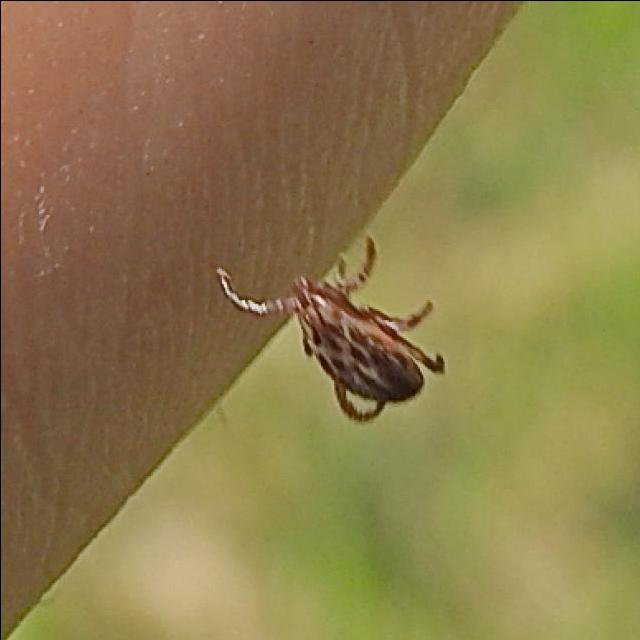Dermacentor Reticulatus-M: (216, 243, 445, 424)
